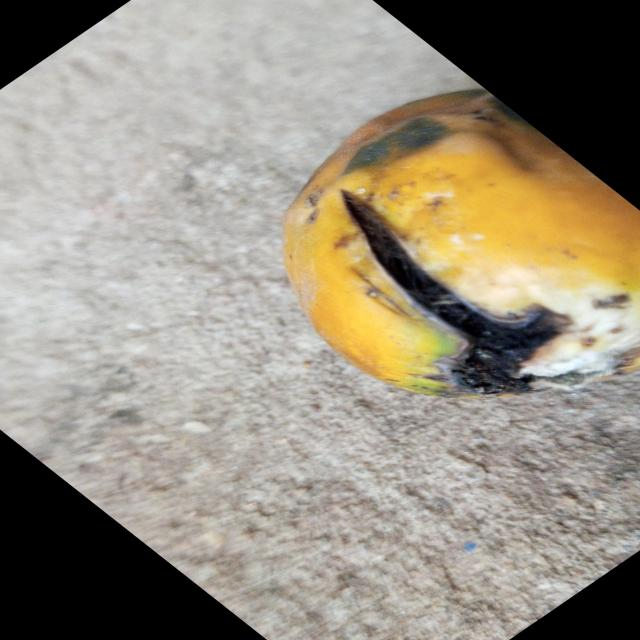damaged: (284, 88, 640, 397)
